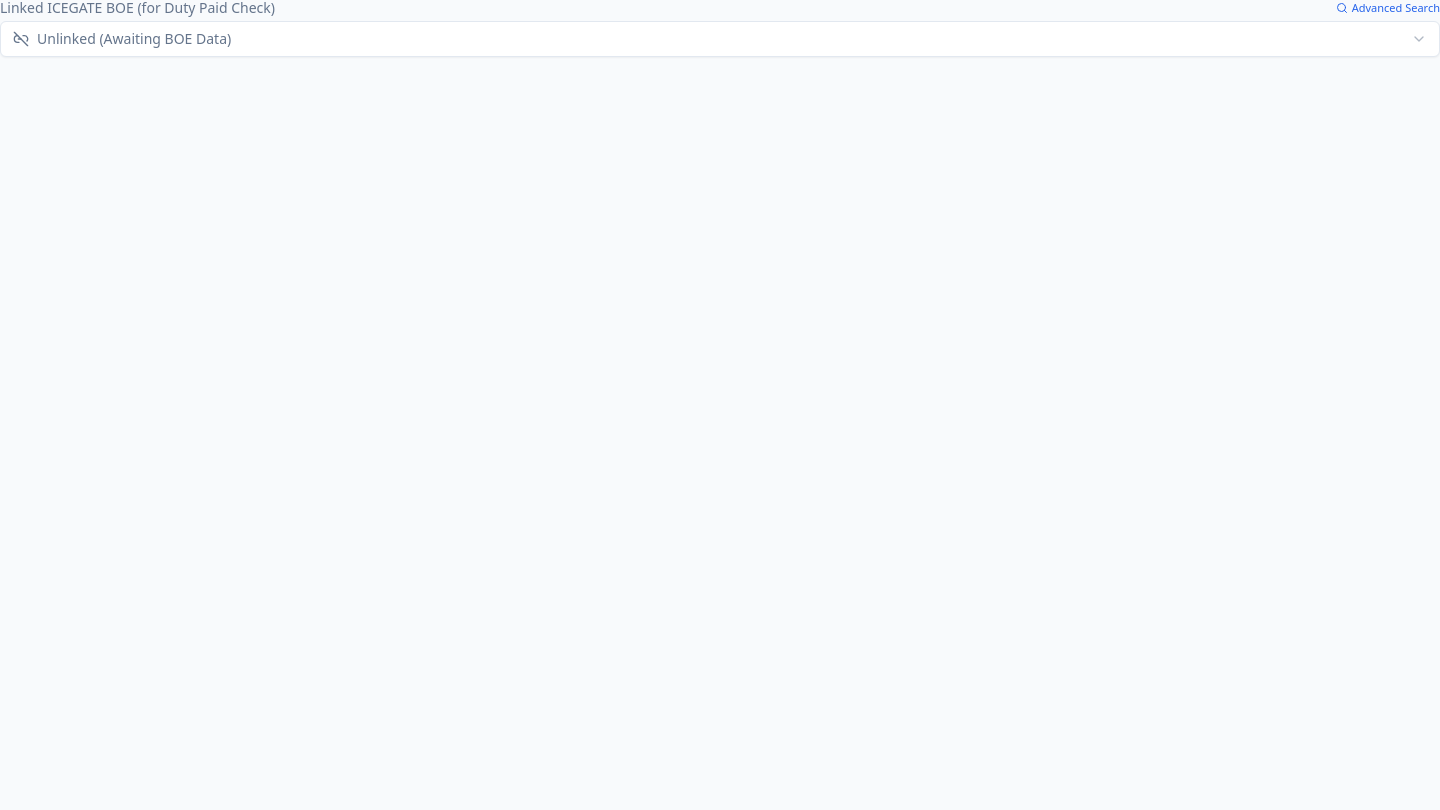
Test: LinkedBoeSelector › opens Advanced Search table modal and selects BOE
Later steps or results of the test are not shown.
Click the button "Advanced Search".
click(1388, 8)  # box x1=1336 y1=0 x2=1439 y2=16
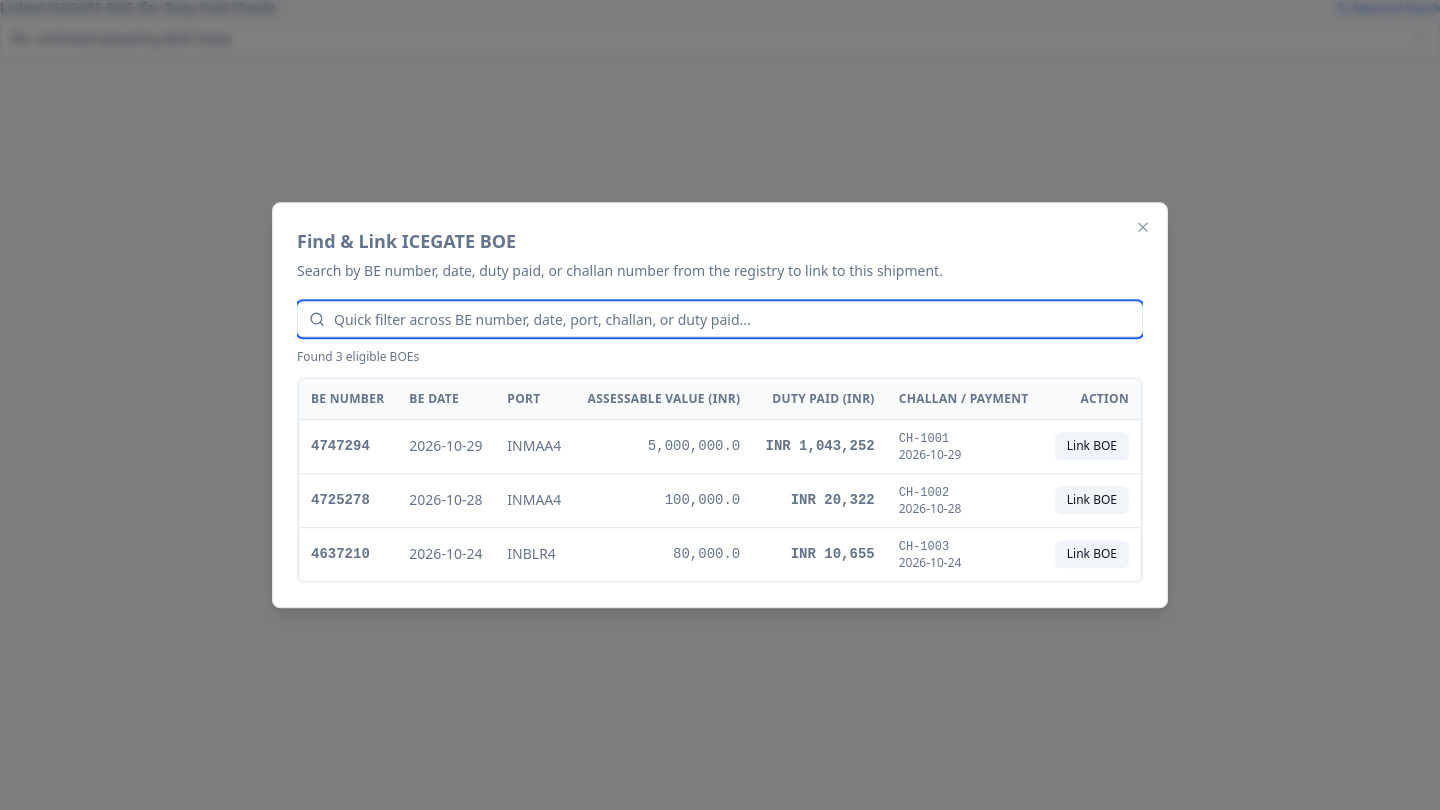
Expected: the text "Find & Link ICEGATE BOE" is shown, x1=297 y1=227 x2=516 y2=255
Expected: the text "Found 3 eligible BOEs" is shown, x1=297 y1=349 x2=419 y2=365
Expected: the number of buttons "Link BOE" is 3, x1=1055 y1=432 x2=1129 y2=460; x1=1055 y1=486 x2=1129 y2=514; x1=1055 y1=540 x2=1129 y2=568
